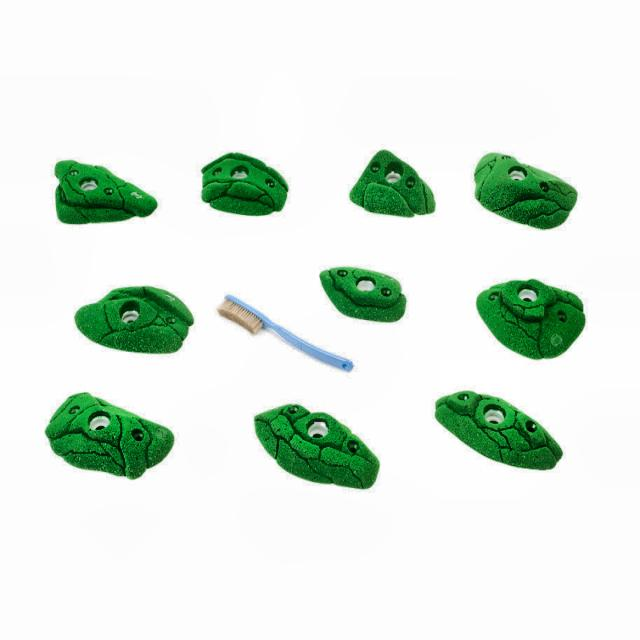Hold: (250, 393, 385, 495), (43, 384, 175, 480), (427, 384, 561, 467), (461, 148, 573, 235), (481, 268, 581, 360), (49, 149, 159, 231), (68, 282, 194, 352), (190, 146, 293, 218), (309, 259, 408, 327), (347, 148, 435, 215)
